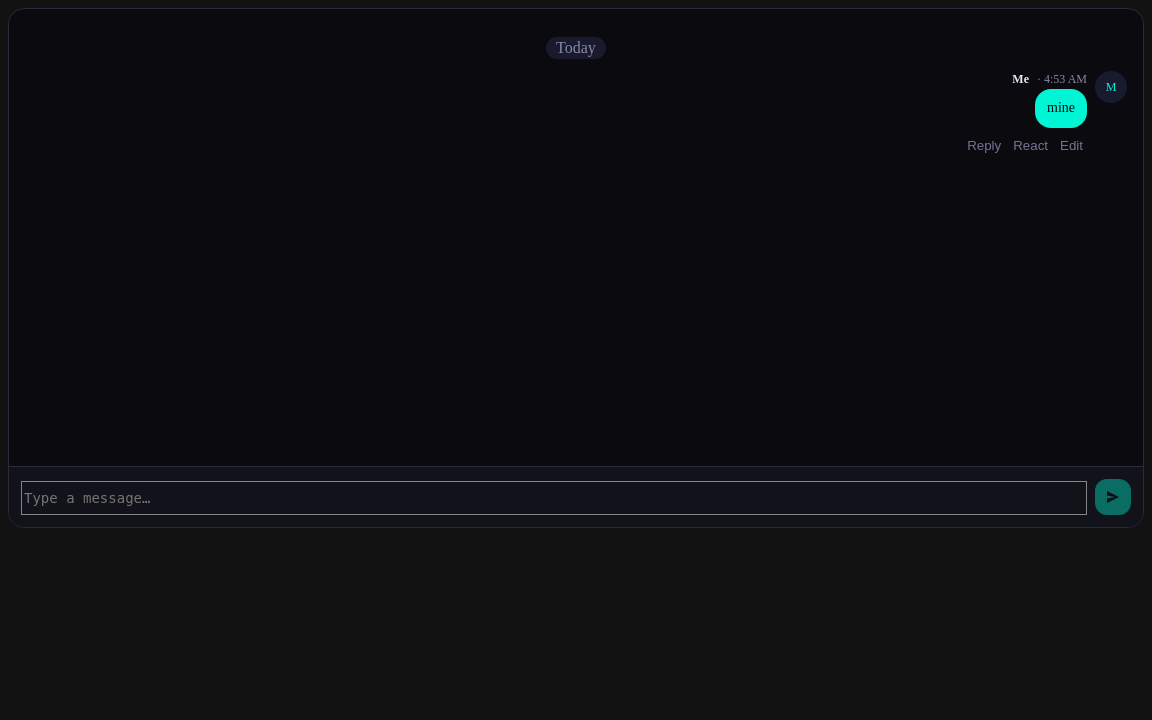
Test: TkxMessageThread › edit own message replaces bubble with editable textarea
Click the button with aria-label "Edit message" at (1072, 145), box [1056,136,1087,155]
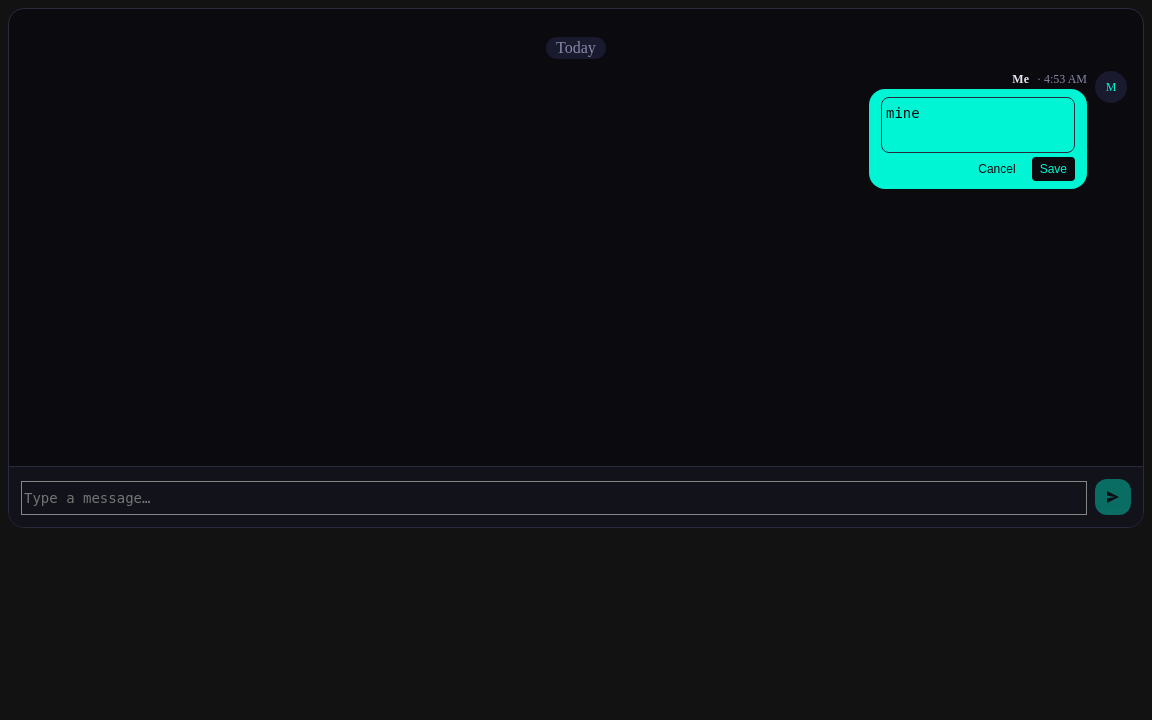
expect the text box named "Edit message" is shown: met, box [881,97,1075,152]
